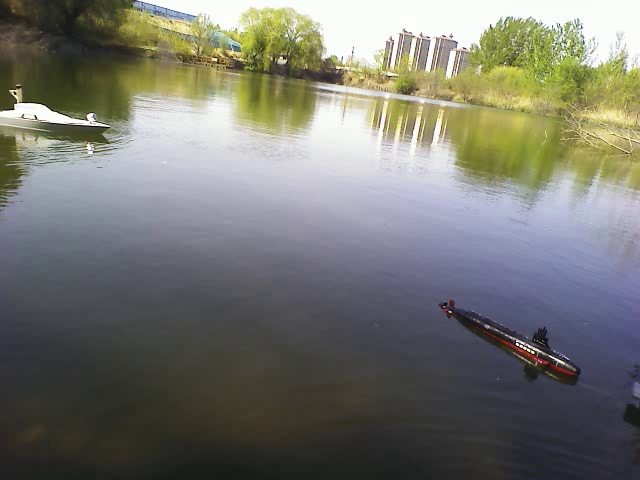boat: (3, 102, 116, 144)
submarine: (438, 293, 587, 383)
